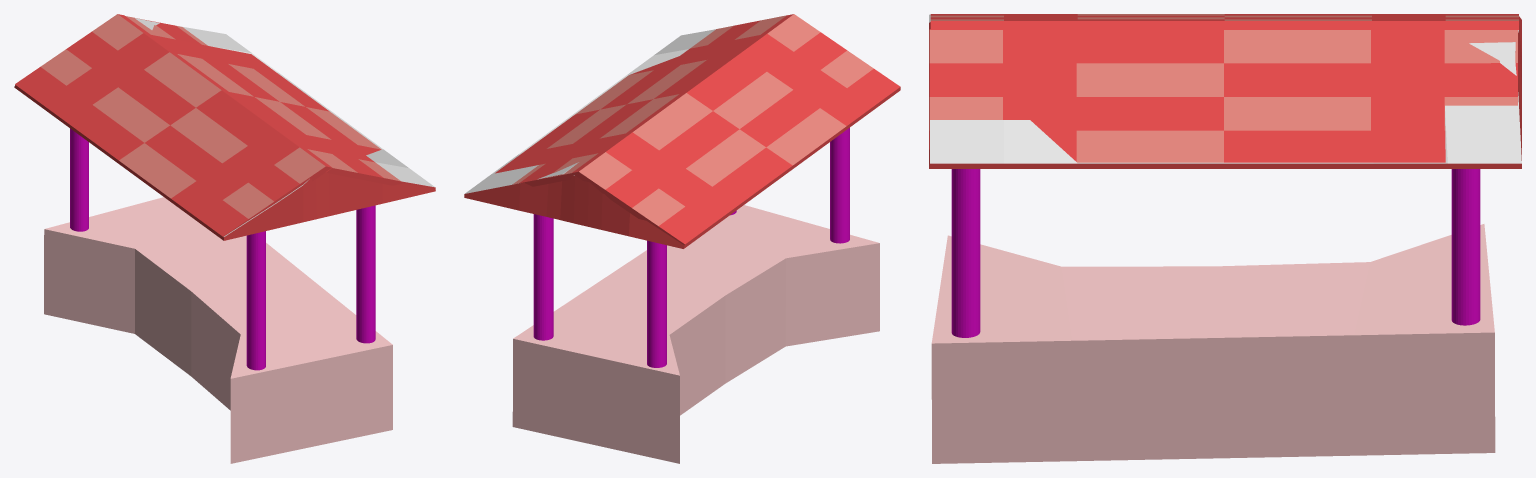
The model's file is shophouse.fbx.
3 renders of one model, left to right at view 1: azimuth 30°, elevation 25°; view 2: azimuth 150°, elevation 25°; view 3: azimuth 270°, elevation 25°, orthographic. The views are drawn at different scales.
Visible parts, largest first — view 1: 立方体, 立方体.001, 円柱.001, 円柱, 円柱.002; view 2: 立方体, 立方体.001, 円柱.003, 円柱.002, 円柱.001; view 3: 立方体.001, 立方体, 円柱, 円柱.003.
Part boxes in pixels (x1,y1,x2,y2): 立方体: (14,14,435,240); 立方体.001: (44,197,392,463); 円柱.001: (246,231,265,370); 円柱: (356,205,375,343); 円柱.002: (70,128,88,231); 立方体: (464,14,900,248); 立方体.001: (512,205,879,463); 円柱.003: (533,214,553,340); 円柱.002: (647,240,666,367); 円柱.001: (830,127,849,243); 立方体.001: (931,224,1495,463); 立方体: (929,14,1521,168); 円柱: (951,169,980,337); 円柱.003: (1451,169,1480,325).
Bounding box in the file's own units: 2772 × 3498 × 4743.
